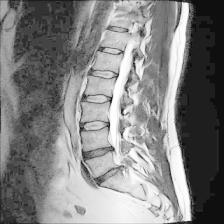disc: (105, 21, 136, 37)
hdisc: (86, 162, 130, 186), (80, 143, 119, 160), (80, 118, 113, 136), (96, 42, 128, 60), (88, 65, 120, 83), (82, 91, 114, 108)
